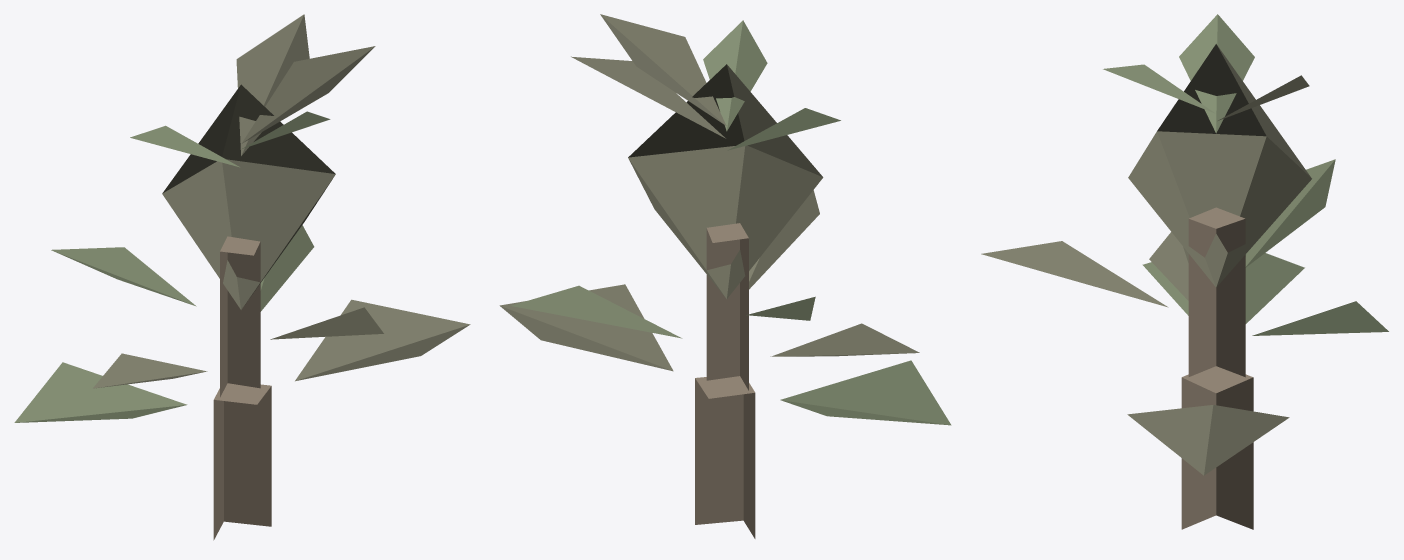
Rendered from shu.cha@seedling__winter.glb.
3 renders of one model, left to right at view 1: azimuth 30°, elevation 25°; view 2: azimuth 150°, elevation 25°; view 3: azimuth 270°, elevation 25°, orthographic. The views are drawn at different scales.
Parts seen in each view (by area): view 1: shu.cha@seedling__winter; view 2: shu.cha@seedling__winter; view 3: shu.cha@seedling__winter.
Boxes of the visible parts, x1,y1,x2,y2 form: shu.cha@seedling__winter: [14, 14, 470, 540]; shu.cha@seedling__winter: [499, 14, 951, 538]; shu.cha@seedling__winter: [981, 14, 1388, 529].
Bounding box in the file's own units: 0.2682 × 0.2662 × 0.1974.
